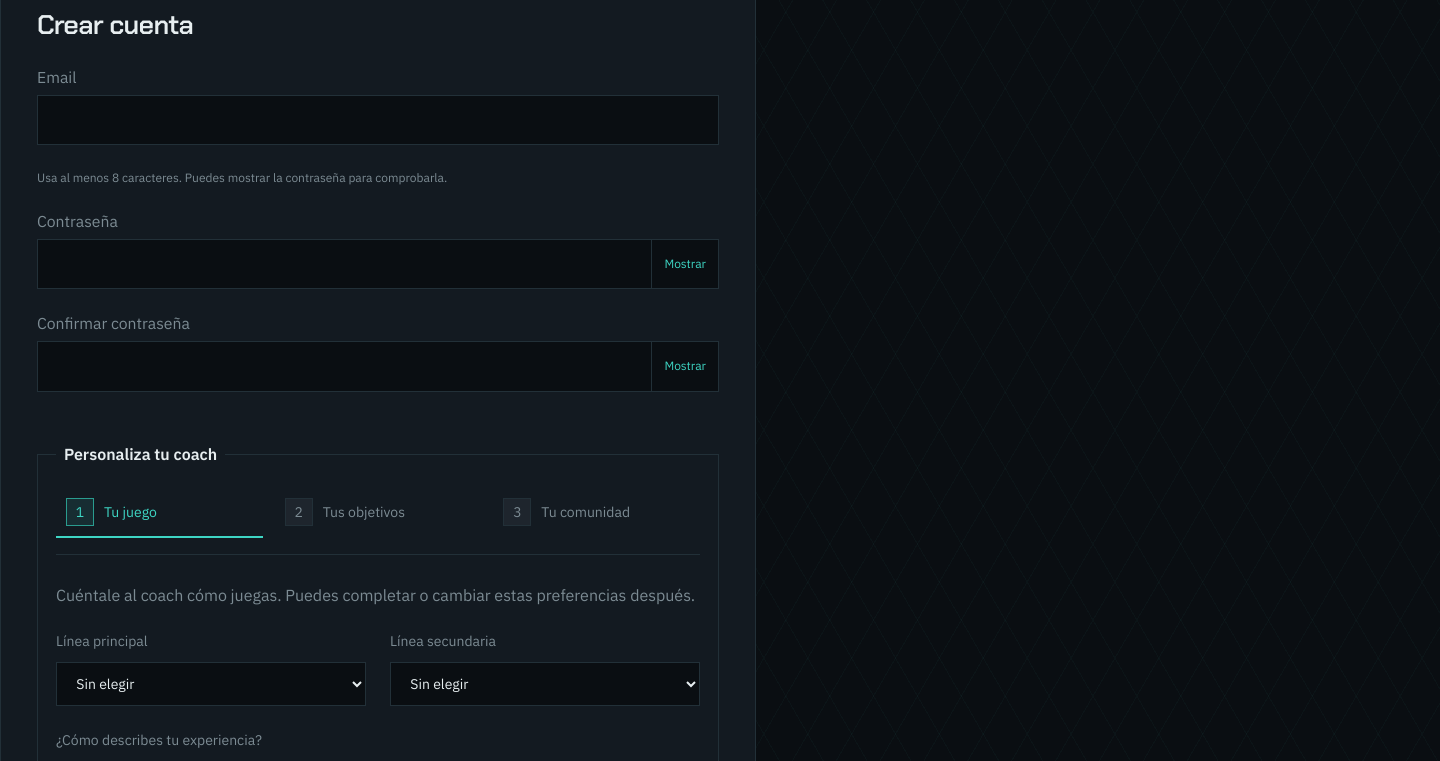
Test: RegisterForm › muestra error si las contraseñas no coinciden
This screenshot has width=1440, height=761.
Type "a@b.com" into the field labelled "Email". click: (378, 120)
box: [37, 95, 719, 145]
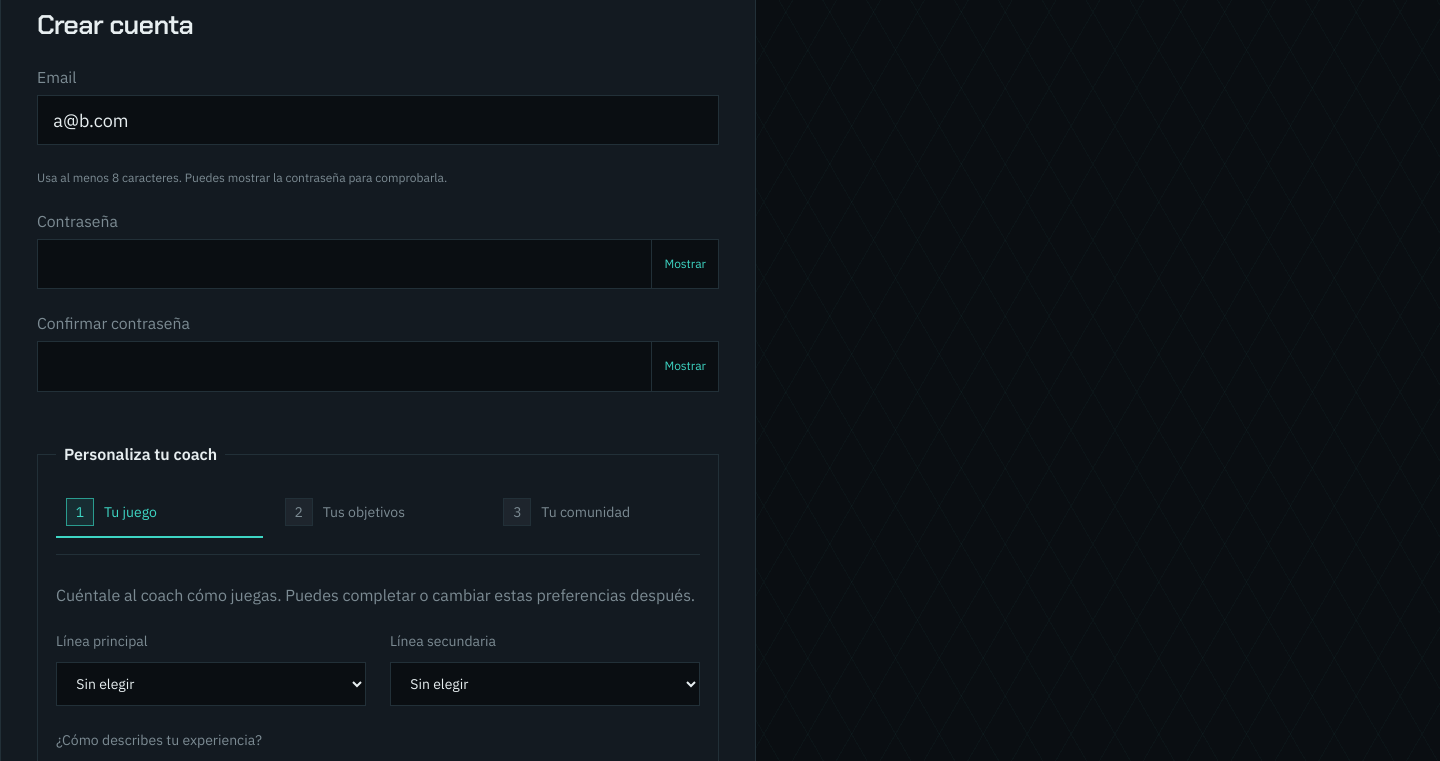
Type "password123" into the password field labelled "Contraseña Mostrar". click: (344, 264)
box: [37, 239, 651, 289]
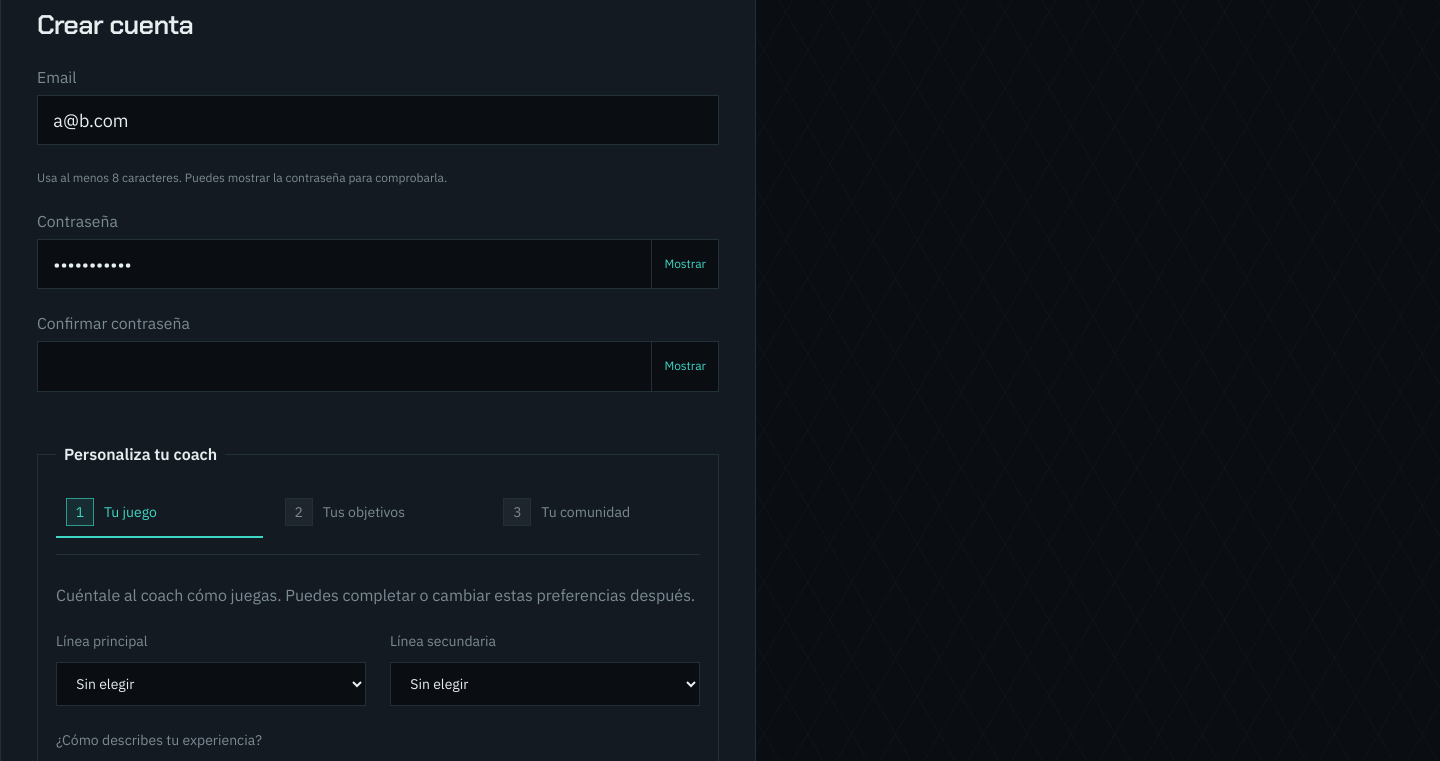
Type "different" into the password field labelled "Confirmar contraseña Mostrar". click: (344, 366)
box: [37, 341, 651, 392]
(page scrolled)
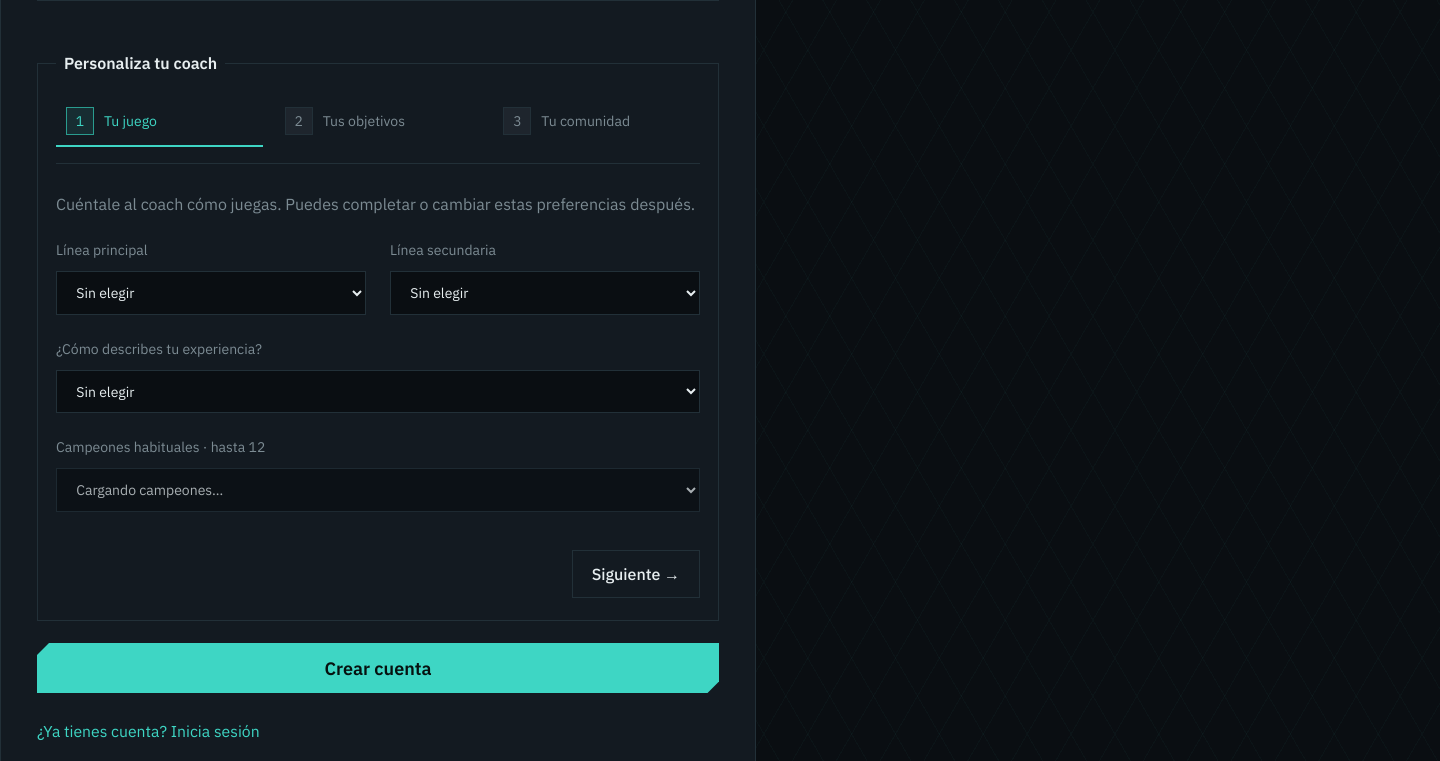
Click the button "Crear cuenta". click: (378, 668)
box: [37, 643, 719, 694]
(page scrolled)
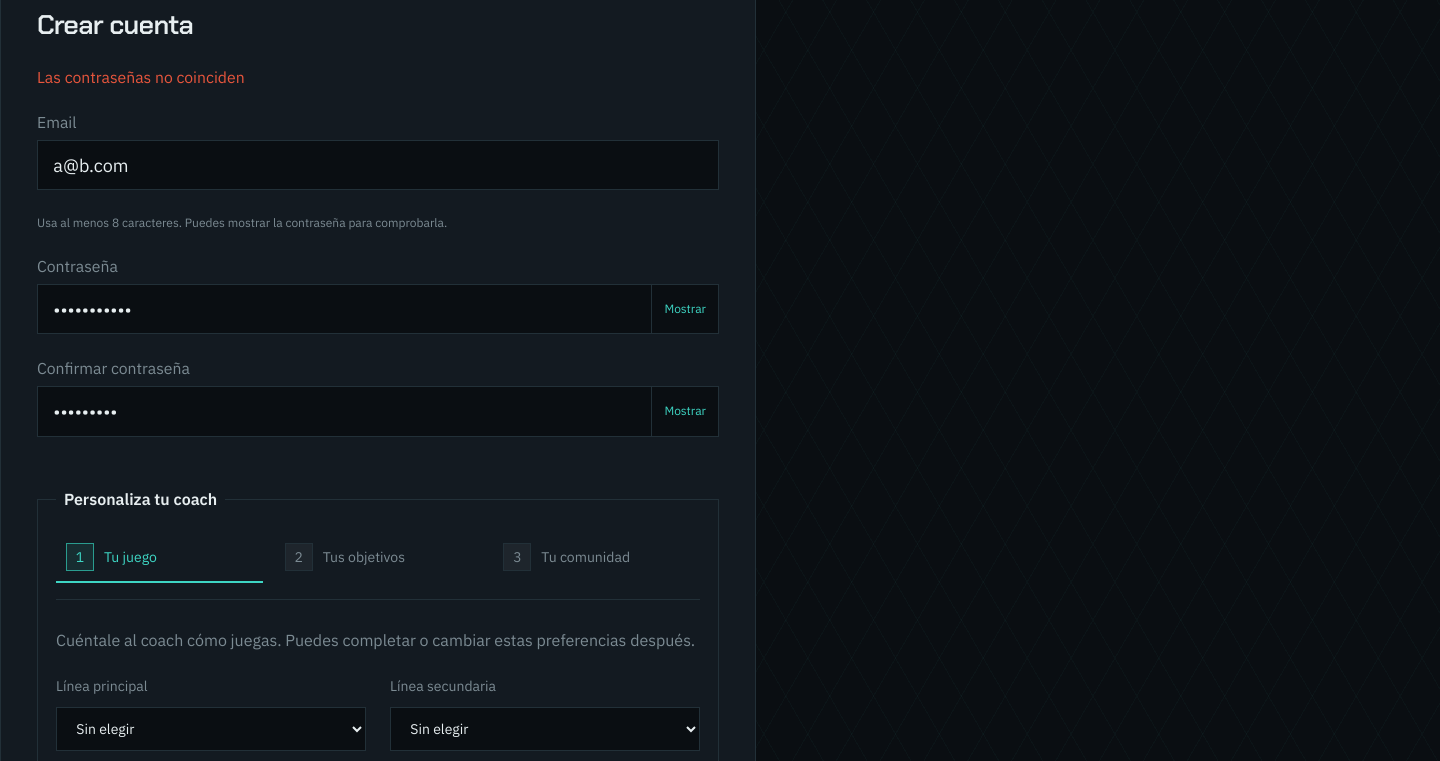
Result: the text "Las contraseñas no coinciden" is shown at [37, 66, 245, 86]
